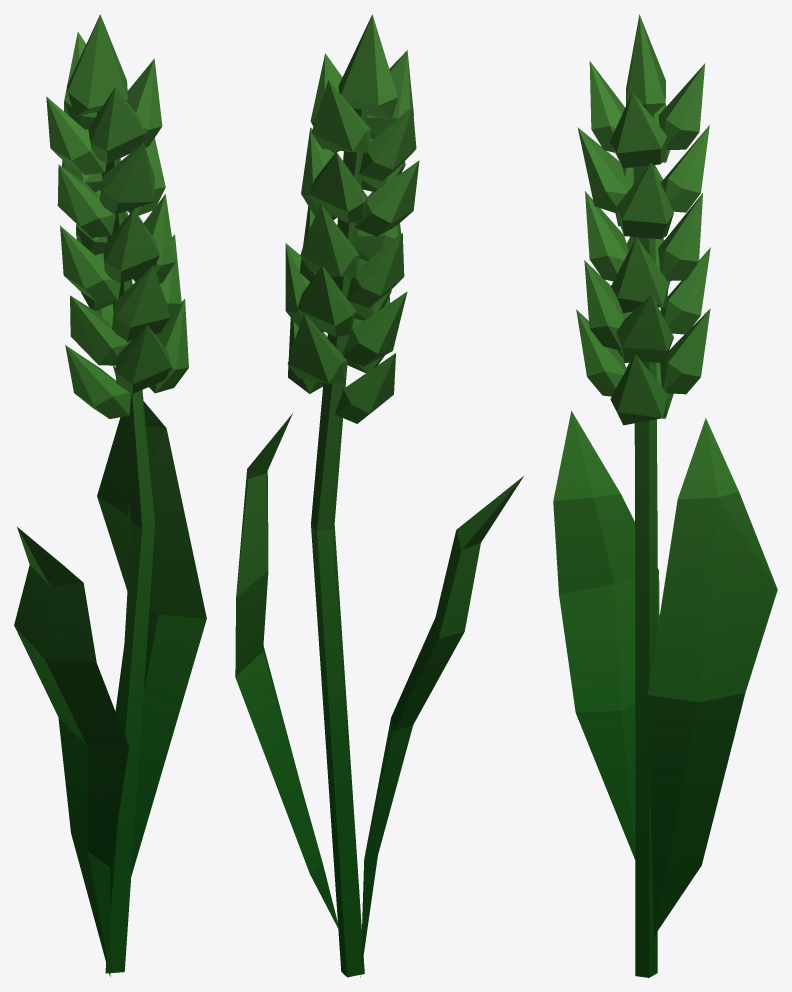
Rendered from Flower_Wheat_02.fbx.
3 renders of one model, left to right at view 1: azimuth 30°, elevation 25°; view 2: azimuth 150°, elevation 25°; view 3: azimuth 270°, elevation 25°, orthographic.
Parts seen in each view (by area): view 1: Flower_Wheat_02; view 2: Flower_Wheat_02; view 3: Flower_Wheat_02.
Part boxes in pixels (box(x1,y1,x2,y2)): Flower_Wheat_02: box(14, 14, 206, 976); Flower_Wheat_02: box(235, 14, 523, 977); Flower_Wheat_02: box(553, 14, 777, 977).
Size of the model in its own units: 19.01 by 76.85 by 16.35.
